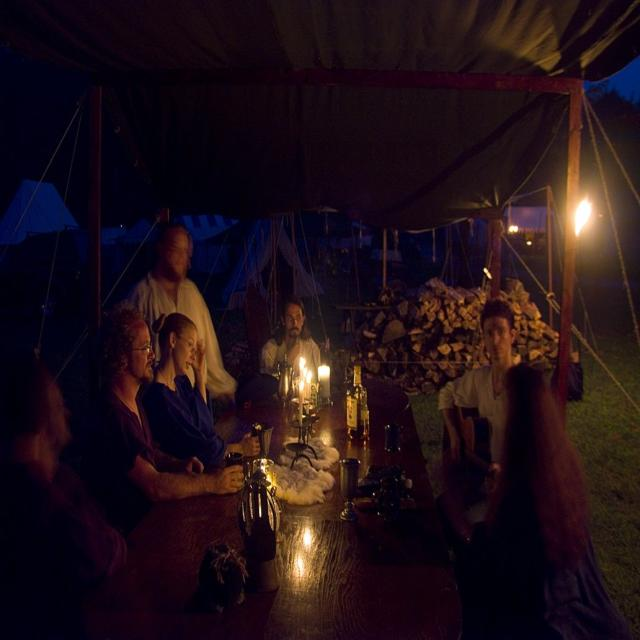Bottle: (237, 479, 281, 613), (341, 364, 369, 439)
Cup: (344, 442, 367, 517), (384, 414, 415, 464), (246, 421, 278, 466)
People: (501, 358, 603, 640), (0, 330, 79, 593), (460, 287, 539, 522), (96, 282, 158, 516), (158, 304, 220, 481), (275, 273, 327, 401), (158, 202, 216, 304)
Table: (94, 353, 463, 640)
